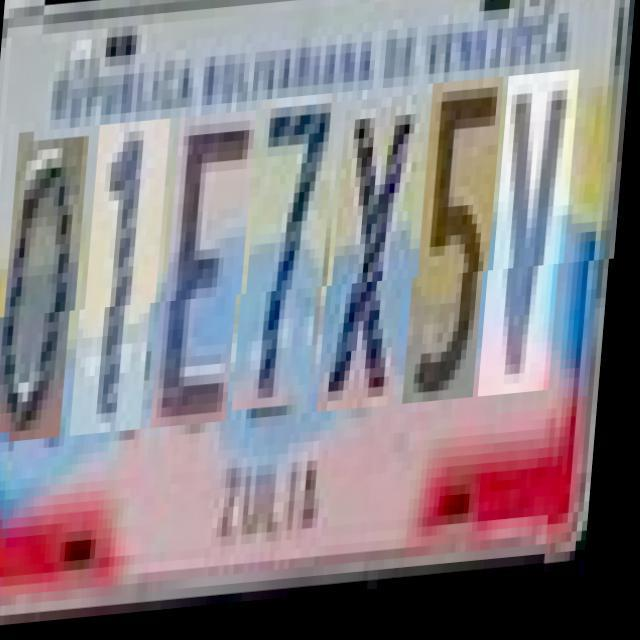1: (82, 122, 172, 438)
5: (414, 87, 506, 412)
7: (244, 100, 340, 416)
E: (164, 116, 258, 432)
O: (2, 138, 92, 444)
V: (491, 81, 582, 406)
X: (330, 103, 424, 419)
